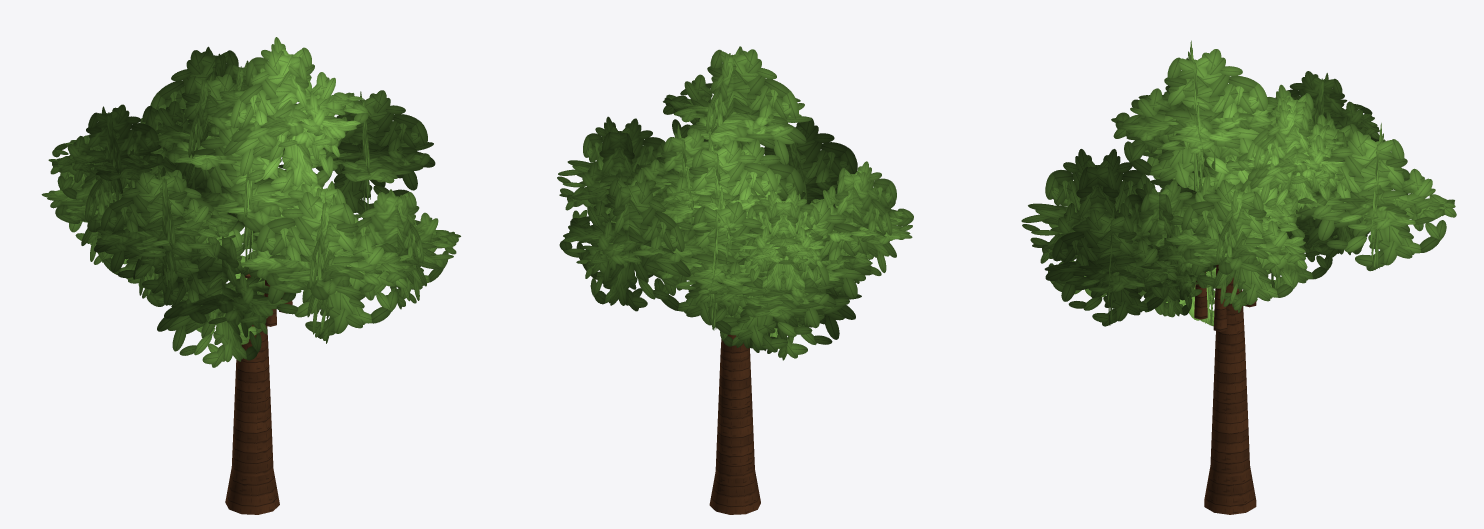
File: flora_oak.glb
3 renders of one model, left to right at view 1: azimuth 30°, elevation 25°; view 2: azimuth 150°, elevation 25°; view 3: azimuth 270°, elevation 25°, orthographic. The views are drawn at different scales.
Visible parts, largest first — view 1: Crown, Trunk; view 2: Crown, Trunk; view 3: Crown, Trunk.
Part boxes in pixels (<box>): Crown: <box>41,37,460,367</box>; Trunk: <box>225,273,292,514</box>; Crown: <box>557,46,913,360</box>; Trunk: <box>709,334,760,514</box>; Crown: <box>1021,40,1456,326</box>; Trunk: <box>1194,265,1256,514</box>.
Bounding box in the file's own units: 6.84 × 7.87 × 7.59.
Materials: 2 (2 with a texture image).
